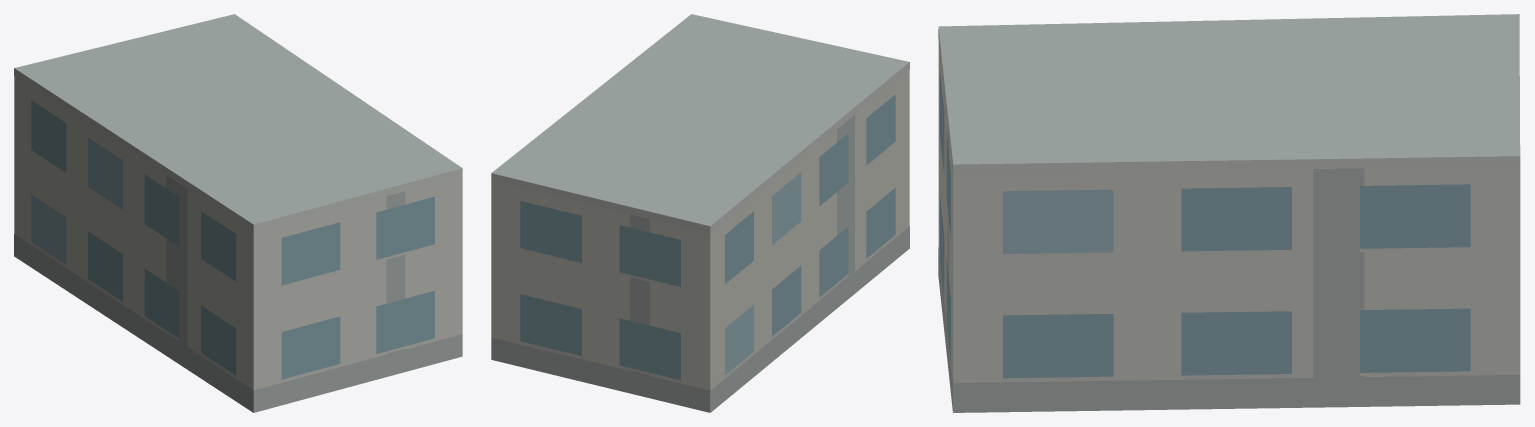
File: survey-upis-32748420.glb
3 views of the same model, side by side, from view 1: azimuth 30°, elevation 25°; view 2: azimuth 150°, elevation 25°; view 3: azimuth 270°, elevation 25° (orthographic). The views are drawn at different scales.
Visible parts, largest first — view 1: survey-upis-32748420.tmp; view 2: survey-upis-32748420.tmp; view 3: survey-upis-32748420.tmp.
Boxes of the visible parts, x1,y1,x2,y2 form: survey-upis-32748420.tmp: [14, 14, 462, 412]; survey-upis-32748420.tmp: [491, 14, 909, 412]; survey-upis-32748420.tmp: [938, 14, 1520, 412].
Bounding box in the file's own units: 7.94 × 6.1 × 12.97.
